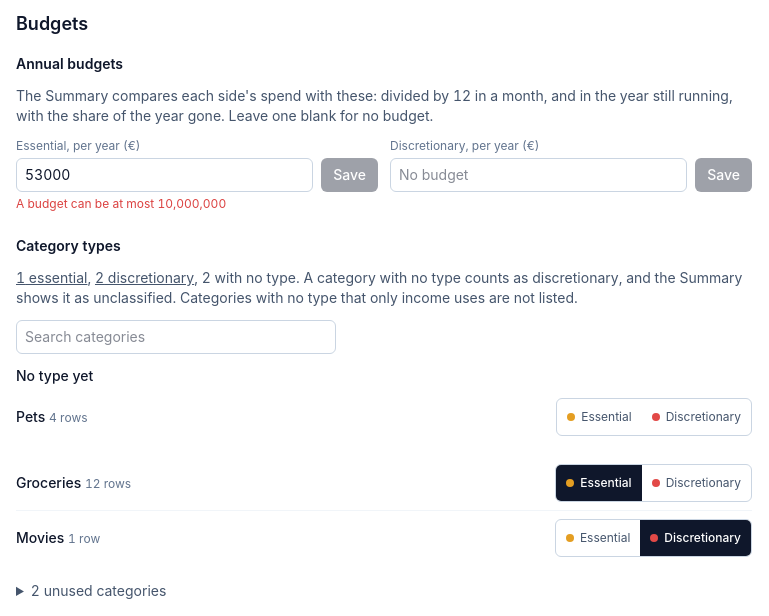
Test: the Budgets page › lists categories with spend and no type first, with neither side pressed
Check: the link "2 discretionary" is shown, box [95,269,194,286]
Check: the text "2 with no type" is shown, box [194,269,296,286]
Click the button "Discretionary" in the row of "Pets" at {"x": 696, "y": 417}, box [642,399,751,435]
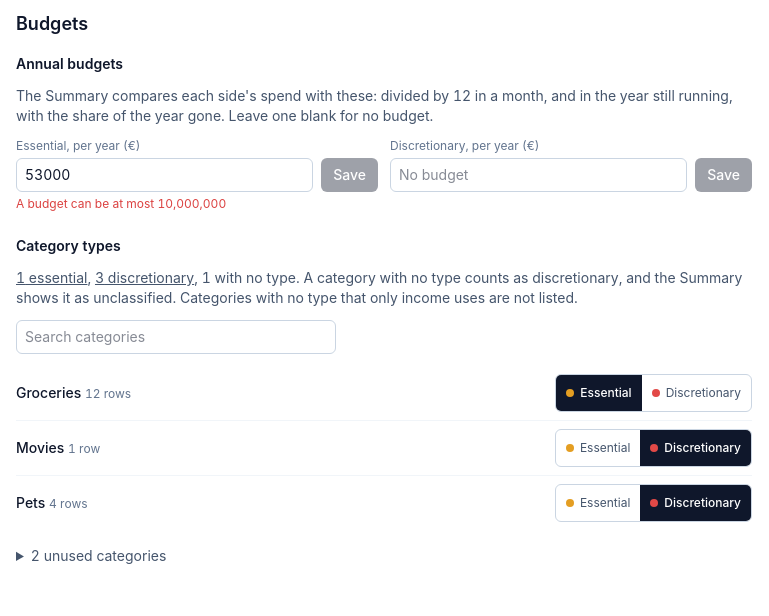
Check: the button "Discretionary" in the row of "Groceries" is shown, box [642,375,751,411]
Check: the heading "No type yet" is gone
